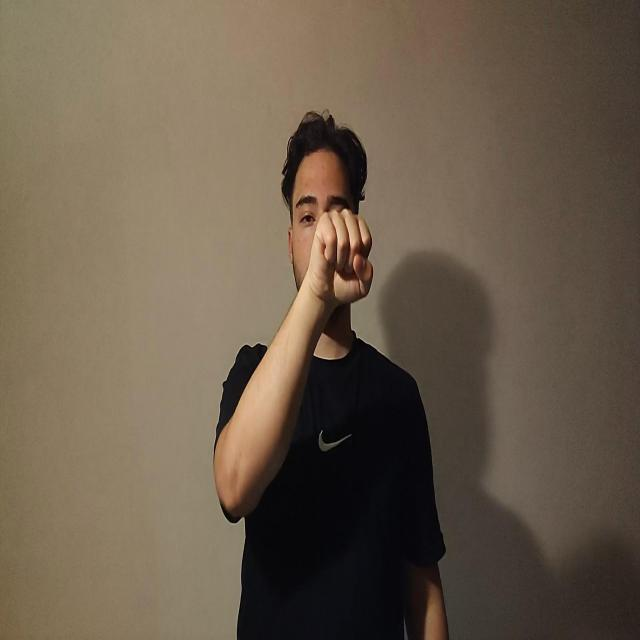yes: (306, 207, 374, 309)
